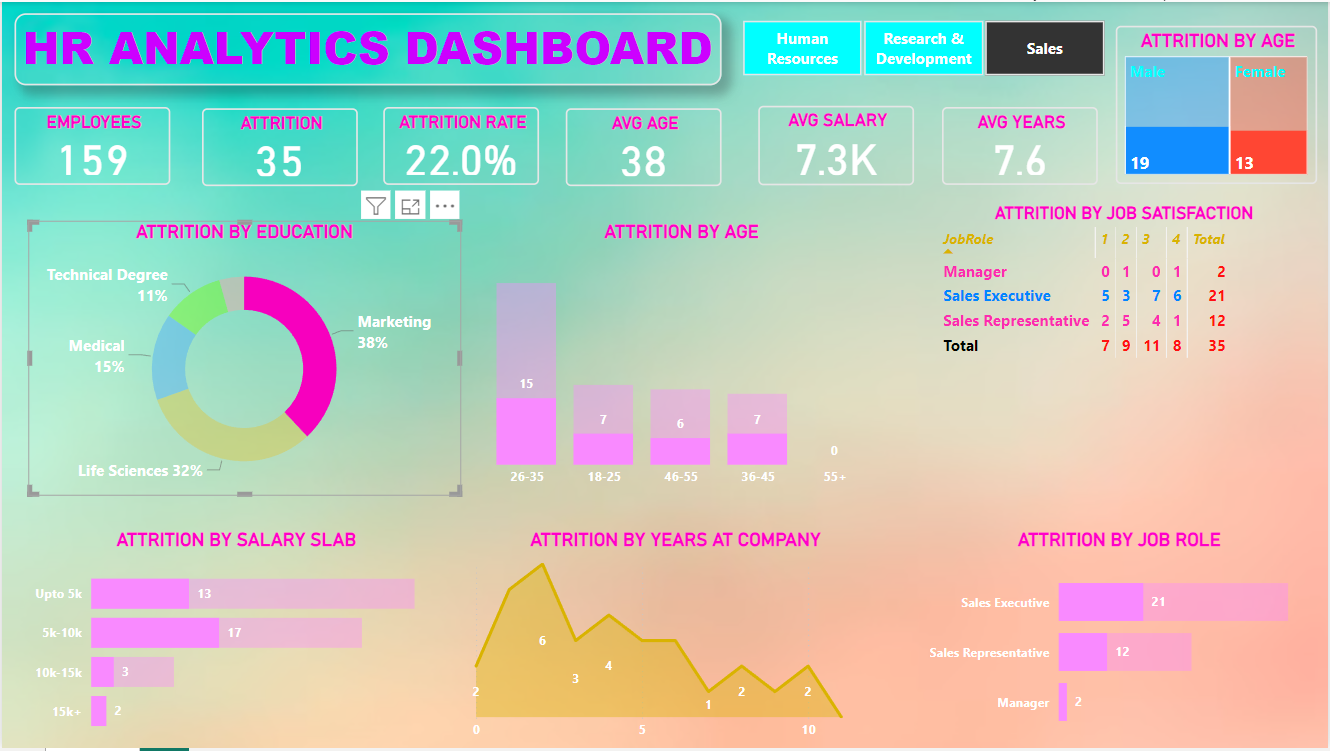

This screenshot's page, from the dashboard's own definition file:
{"tool":"powerbi","page":{"name":"Page 1","canvas":[1280,720],"ordinal":0},"visuals":[{"type":"card","title":"EMPLOYEES","fields":{"Values":["CountNonNull(HR_Analytics.EmpID)"]},"box":[11.7,101.6,150.3,75.1],"z":0},{"type":"card","title":"ATTRITION","fields":{"Values":["Sum(HR_Analytics.AttritionCount)"]},"box":[193,102.3,150.3,75.1],"z":1000},{"type":"card","title":"ATTRITION RATE","fields":{"Values":["HR_Analytics.AttritionRate"]},"box":[367.9,101.1,150.3,75.1],"z":2000},{"type":"card","title":"AVG AGE","fields":{"Values":["Avg(HR_Analytics.Age)"]},"box":[544.1,102.3,150.3,75.1],"z":3000},{"type":"card","title":"AVG SALARY","fields":{"Values":["Avg(HR_Analytics.MonthlyIncome)"]},"box":[729.4,99.8,150.3,76.4],"z":4000},{"type":"card","title":"AVG YEARS","fields":{"Values":["Avg(HR_Analytics.YearsAtCompany)"]},"box":[906.9,101.1,150.3,75.1],"z":5000},{"type":"donutChart","title":"ATTRITION BY EDUCATION","fields":{"Category":["HR_Analytics.EducationField"],"Y":["Sum(HR_Analytics.AttritionCount)"]},"box":[25.9,211.2,417.2,265.6],"z":6000},{"type":"columnChart","title":"ATTRITION BY AGE","fields":{"Category":["HR_Analytics.AgeGroup"],"Y":["Sum(HR_Analytics.AttritionCount)"]},"box":[443.1,211.2,426.2,265.6],"z":7000},{"type":"pivotTable","title":"ATTRITION BY JOB SATISFACTION","fields":{"Rows":["HR_Analytics.JobRole"],"Columns":["HR_Analytics.JobSatisfaction"],"Values":["Sum(HR_Analytics.AttritionCount)"]},"box":[896.5,193,373.1,301.9],"z":8000},{"type":"barChart","title":"ATTRITION BY SALARY SLAB","fields":{"Category":["HR_Analytics.SalarySlab"],"Y":["Sum(HR_Analytics.AttritionCount)"]},"box":[25.9,507.9,401.6,212.5],"z":9000},{"type":"barChart","title":"ATTRITION BY JOB ROLE","fields":{"Category":["HR_Analytics.JobRole"],"Y":["Sum(HR_Analytics.AttritionCount)"]},"box":[888.7,507.9,378.3,212.5],"z":10000},{"type":"stackedAreaChart","title":"ATTRITION BY YEARS AT COMPANY","fields":{"Category":["HR_Analytics.YearsAtCompany"],"Y":["Sum(HR_Analytics.AttritionCount)"]},"box":[443.1,507.9,414.6,212.5],"z":11000},{"type":"treemap","title":"ATTRITION BY AGE","fields":{"Group":["HR_Analytics.Gender"],"Values":["Sum(HR_Analytics.AttritionCount)"]},"box":[1075.3,23.3,194.3,152.9],"z":12000},{"type":"slicer","fields":{"Values":["HR_Analytics.Department"]},"box":[689.2,10.4,399,67.4],"z":13000},{"type":"textbox","box":[11.7,10.4,682.8,70],"z":14000}]}

Visuals, with their boxes in screenshot pixels (x1, y1, x2, y2), scaled from the page's 1280x720 canvas onto the 1330x751 screenshot:
"EMPLOYEES" card: <box>12,106,168,184</box>
"ATTRITION" card: <box>201,107,357,185</box>
"ATTRITION RATE" card: <box>382,105,538,184</box>
"AVG AGE" card: <box>565,107,722,185</box>
"AVG SALARY" card: <box>758,104,914,184</box>
"AVG YEARS" card: <box>942,105,1098,184</box>
"ATTRITION BY EDUCATION" donutChart: <box>27,220,460,497</box>
"ATTRITION BY AGE" columnChart: <box>460,220,903,497</box>
"ATTRITION BY JOB SATISFACTION" pivotTable: <box>932,201,1319,516</box>
"ATTRITION BY SALARY SLAB" barChart: <box>27,530,444,750</box>
"ATTRITION BY JOB ROLE" barChart: <box>923,530,1316,750</box>
"ATTRITION BY YEARS AT COMPANY" stackedAreaChart: <box>460,530,891,750</box>
"ATTRITION BY AGE" treemap: <box>1117,24,1319,184</box>
slicer - HR_Analytics.Department: <box>716,11,1131,81</box>
textbox: <box>12,11,722,84</box>
